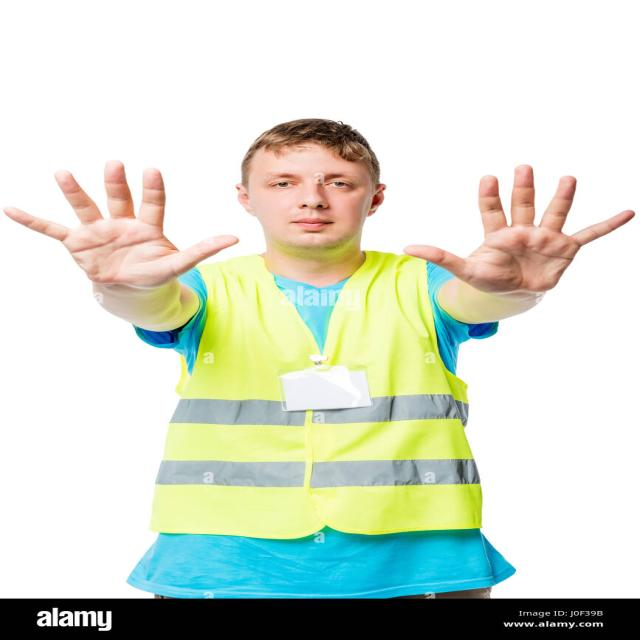vest: (150, 247, 483, 542)
